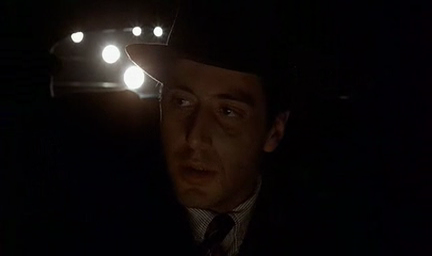cu: (1, 1, 432, 256)
face: (160, 57, 269, 209)
person: (53, 1, 362, 256)
